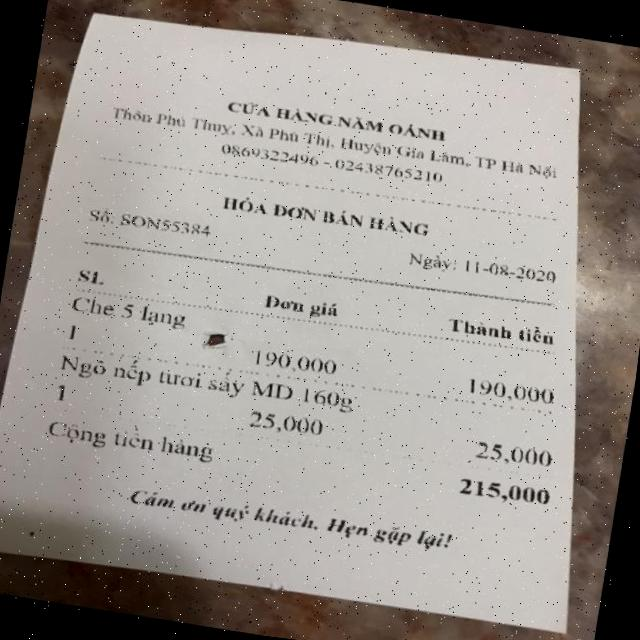Date: (454, 252, 560, 286)
Store_Name: (222, 90, 454, 147)
amount_number: (451, 469, 556, 512)
label_total: (42, 414, 220, 466)
